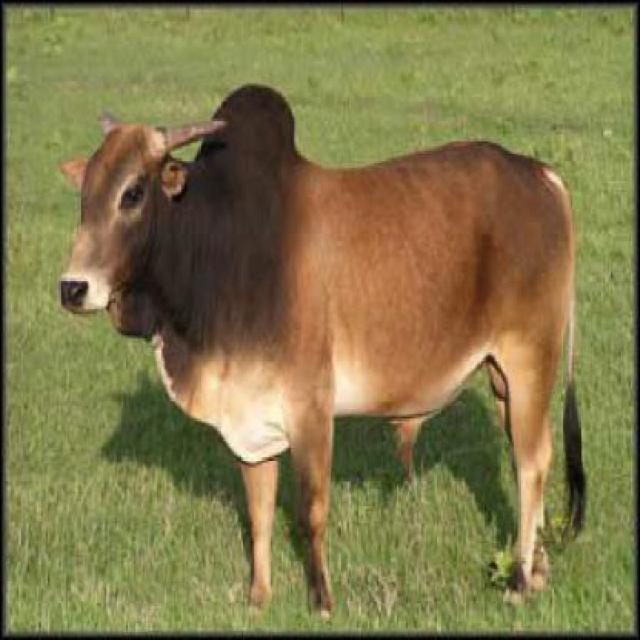Cow: (57, 80, 592, 626)
